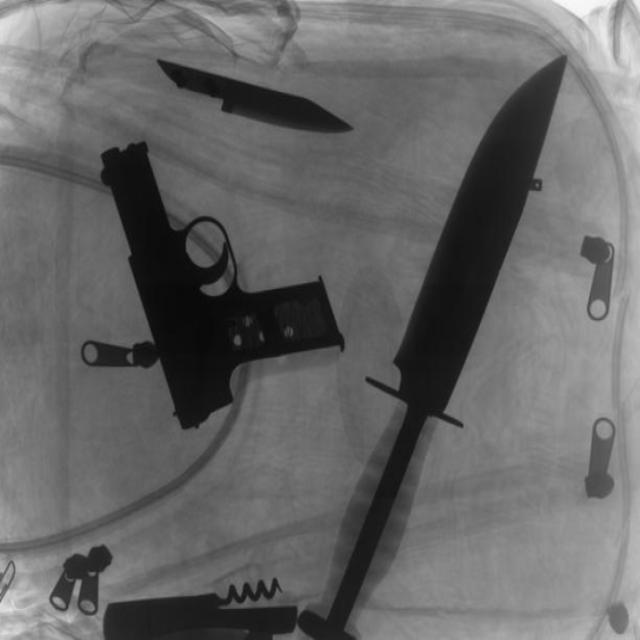GUN: (96, 139, 342, 428)
KNIFE: (155, 47, 353, 147)
